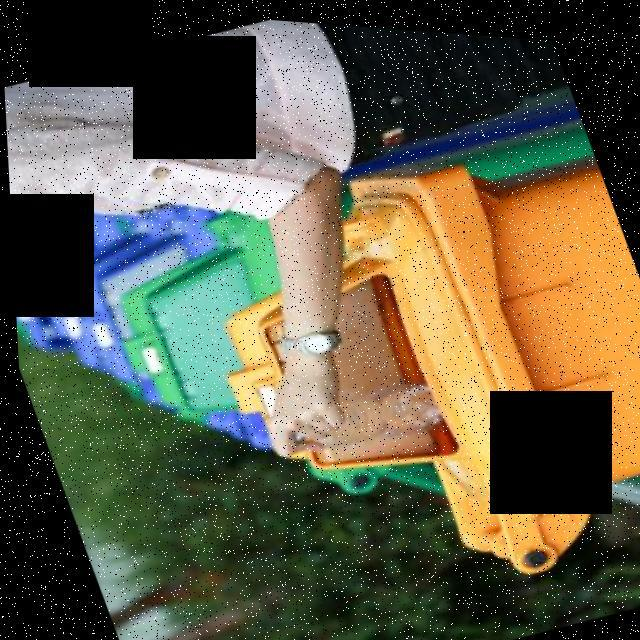bin: (285, 83, 640, 608)
